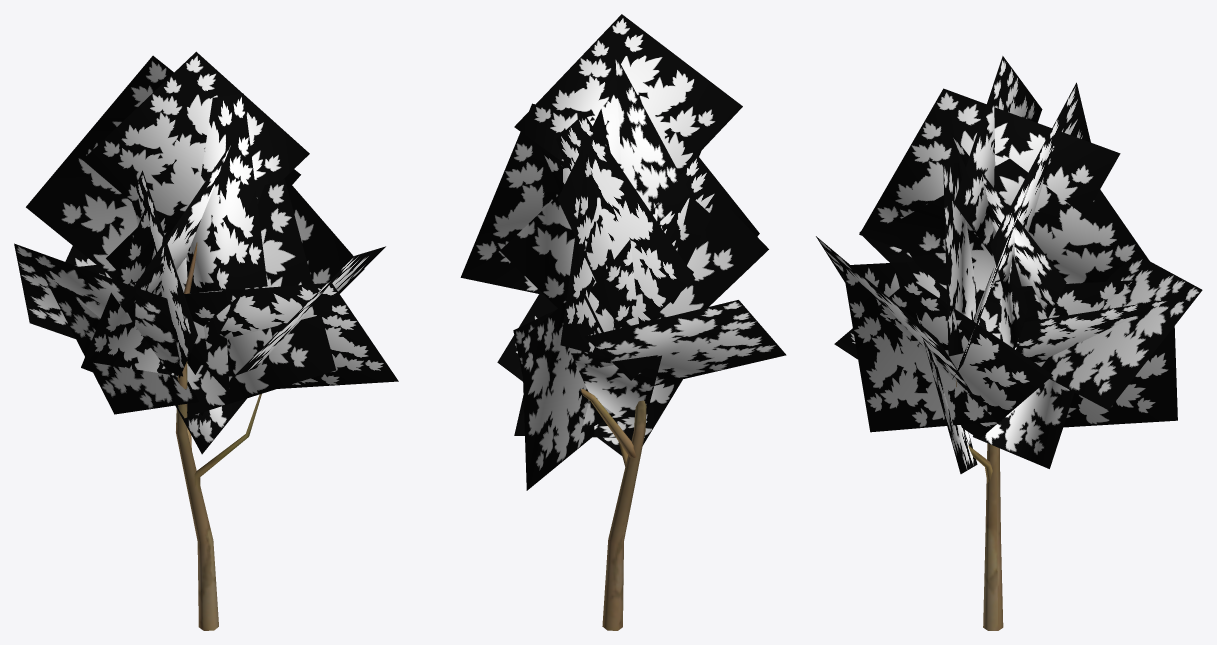
File: P_RedMapleSapling01.obj
3 views of the same model, side by side, from view 1: azimuth 30°, elevation 25°; view 2: azimuth 150°, elevation 25°; view 3: azimuth 270°, elevation 25° (orthographic).
Size of the model in its own units: 2.1 by 3.84 by 2.22.
